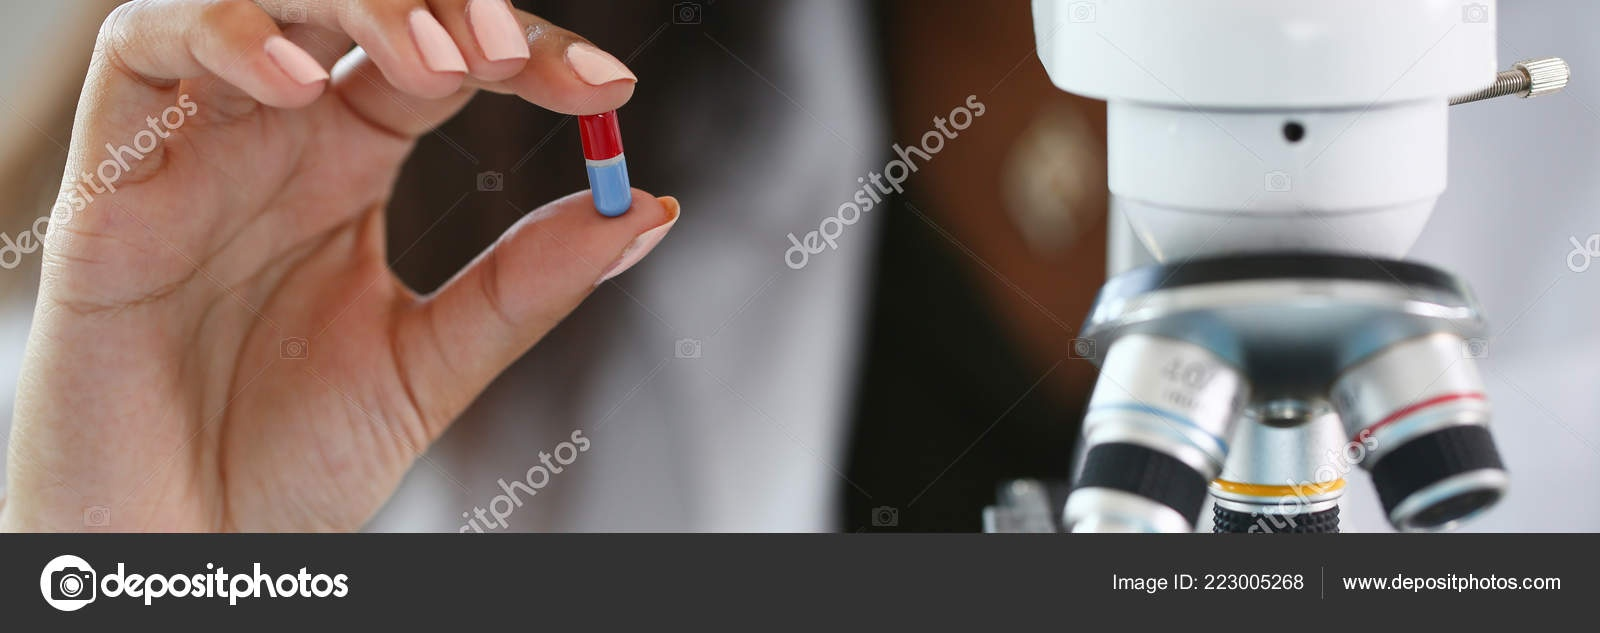pills: (566, 90, 635, 247)
